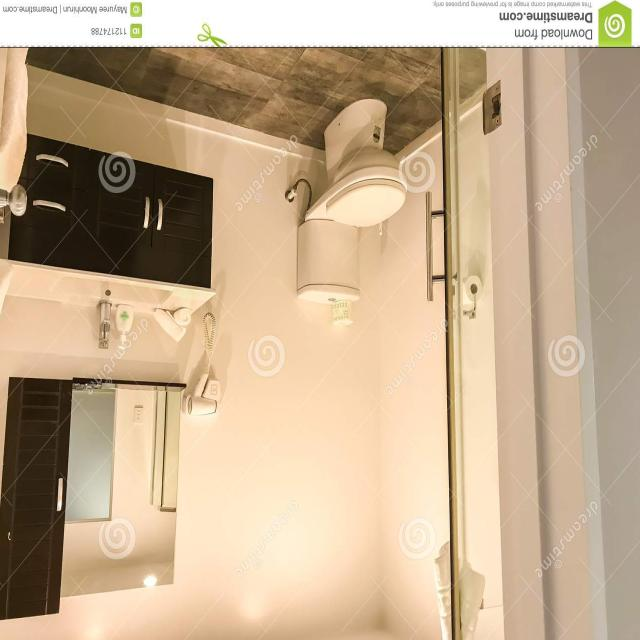dryer: (178, 310, 224, 422)
